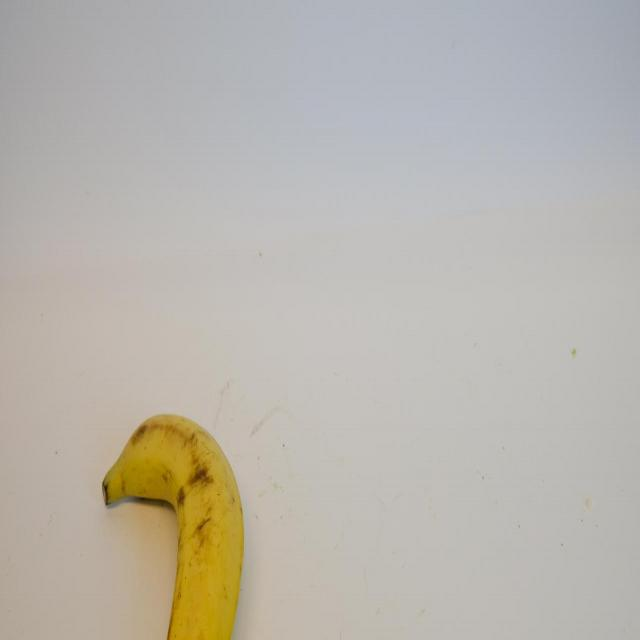banana: (100, 398, 242, 638)
